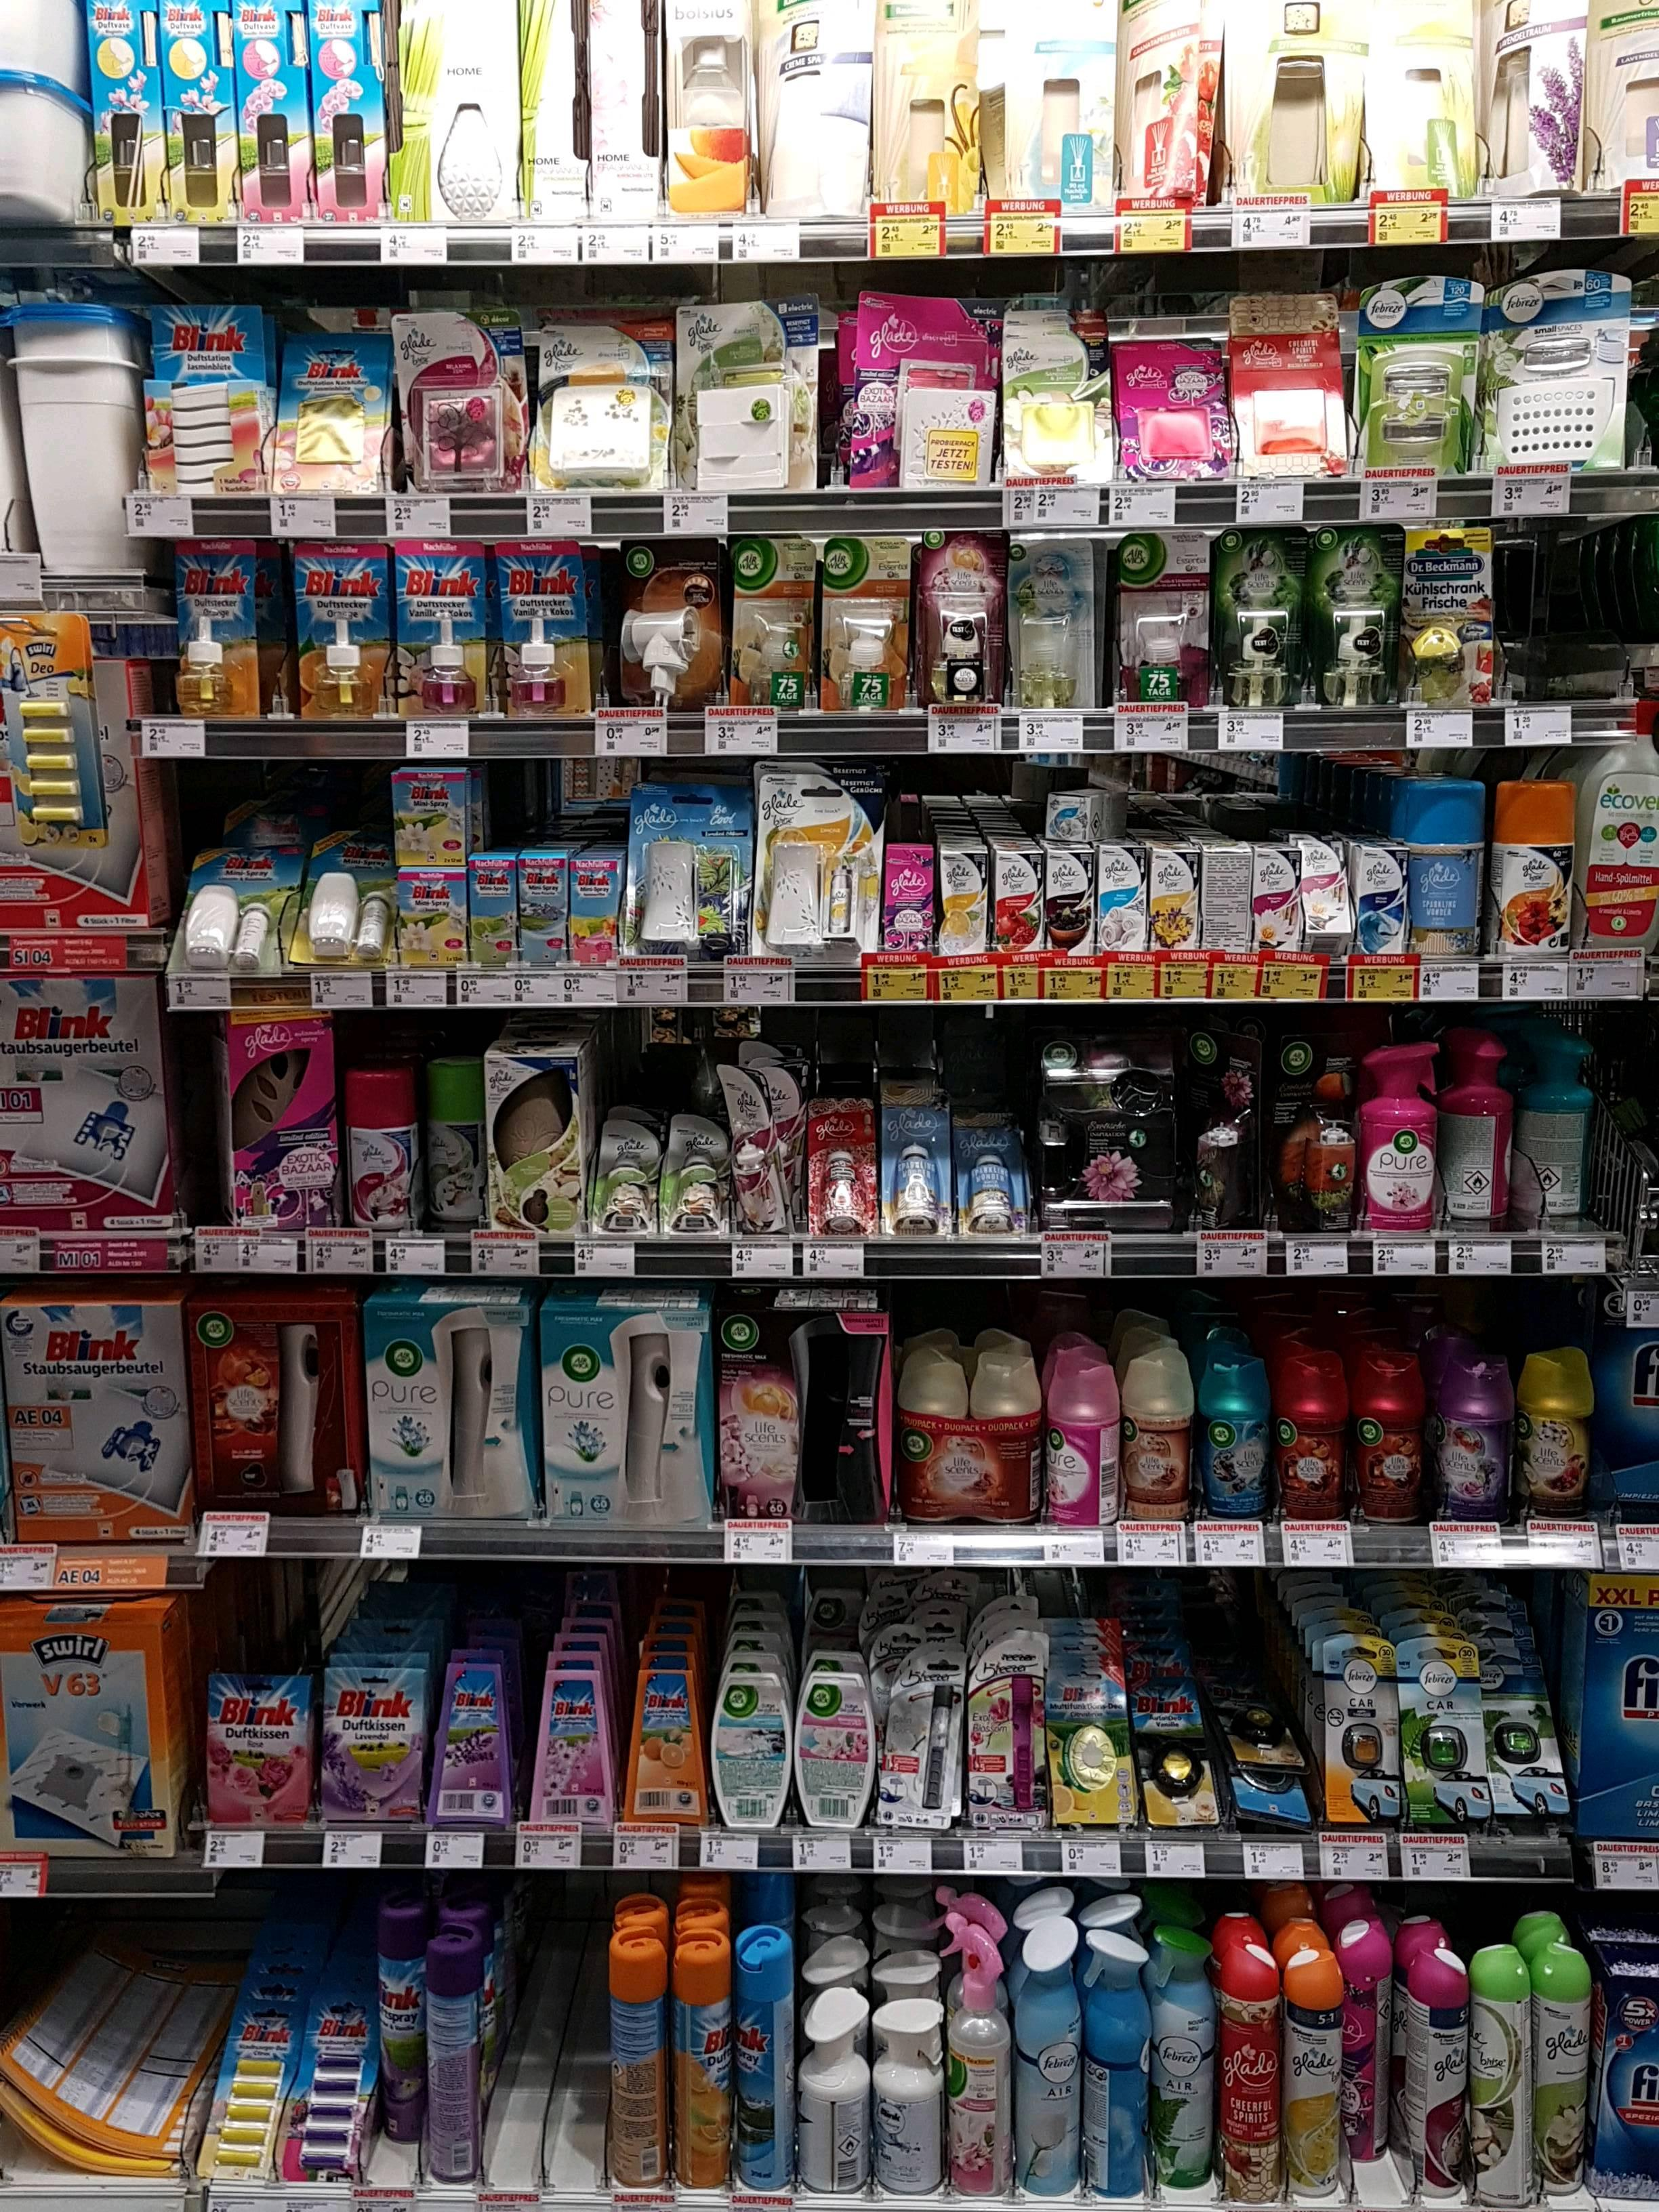misalignment: (1209, 1669, 1314, 1841), (1183, 1029, 1265, 1224), (723, 1068, 795, 1231), (1298, 836, 1347, 951)
